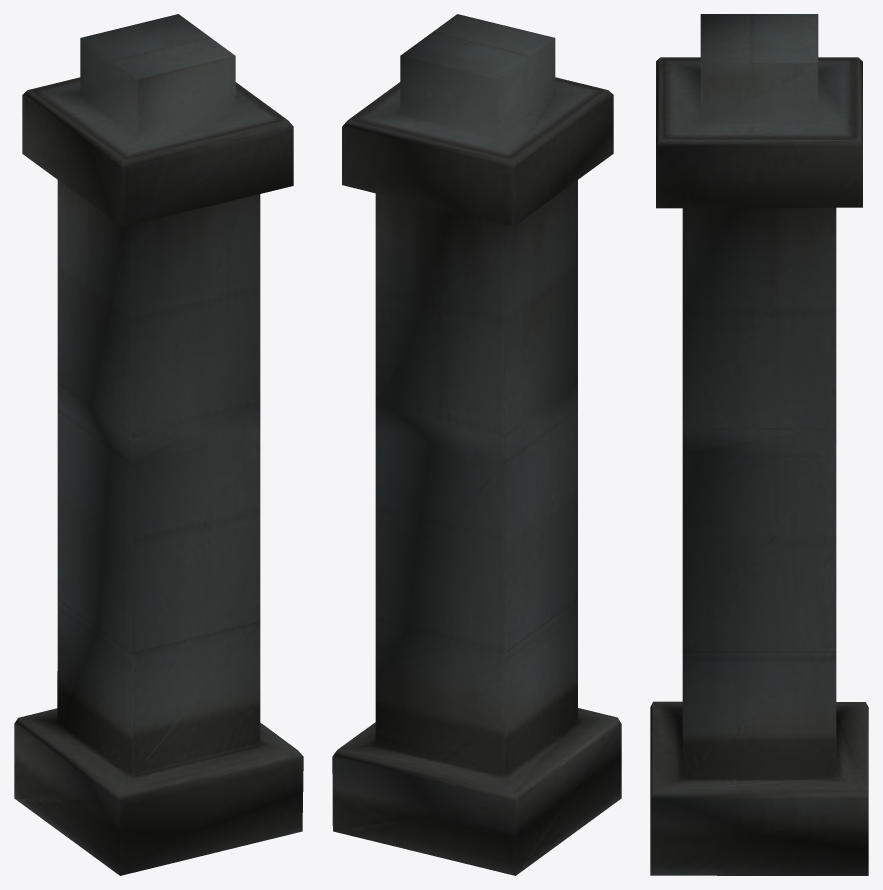
3 renders of one model, left to right at view 1: azimuth 30°, elevation 25°; view 2: azimuth 150°, elevation 25°; view 3: azimuth 270°, elevation 25°, orthographic. The views are drawn at different scales.
Bounding box in the file's own units: 0.3 × 1.2 × 0.3.
1 material, 1 textured.
